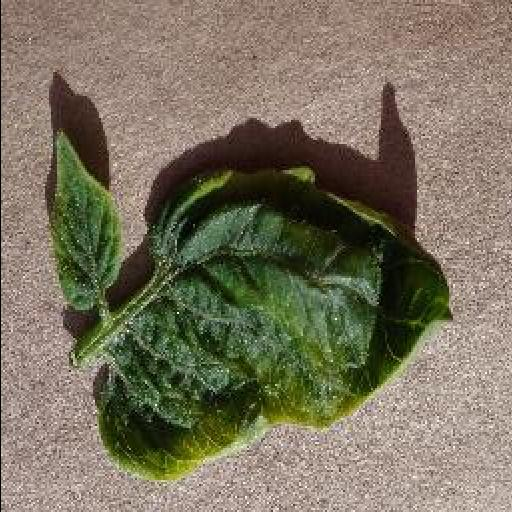disease_tomato: (90, 166, 456, 484), (44, 130, 118, 311)
